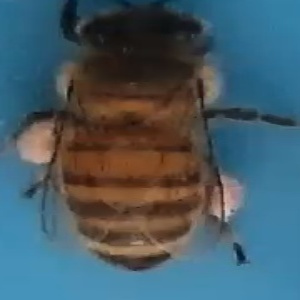bee: (27, 3, 293, 285)
